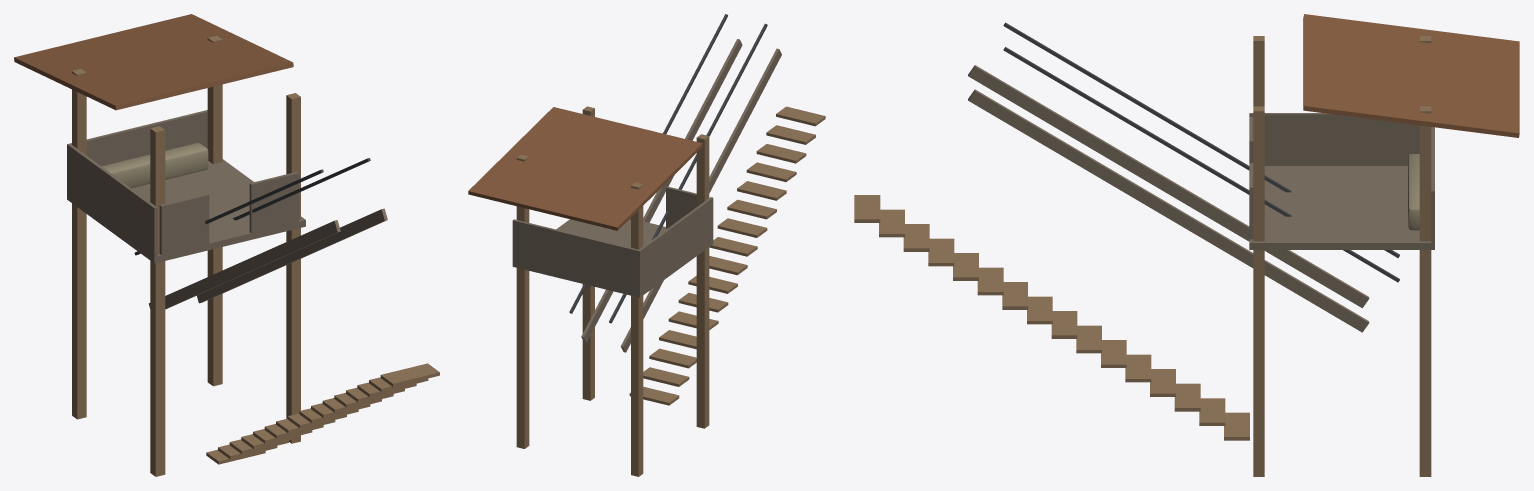
File: ZR_SniperNest_Open.fbx
The picture shows the model from 3 angles, left to right: view 1: azimuth 30°, elevation 25°; view 2: azimuth 150°, elevation 25°; view 3: azimuth 270°, elevation 25°; orthographic projection. The views are drawn at different scales.
Parts seen in each view (by area): view 1: ZR_SniperNest_Open; view 2: ZR_SniperNest_Open; view 3: ZR_SniperNest_Open.
Part boxes in pixels (bbox=[...]): ZR_SniperNest_Open: bbox=[14, 14, 439, 476]; ZR_SniperNest_Open: bbox=[468, 14, 825, 476]; ZR_SniperNest_Open: bbox=[854, 14, 1519, 476].
Bounding box in the file's own units: 3.4 × 6.96 × 10.39.
